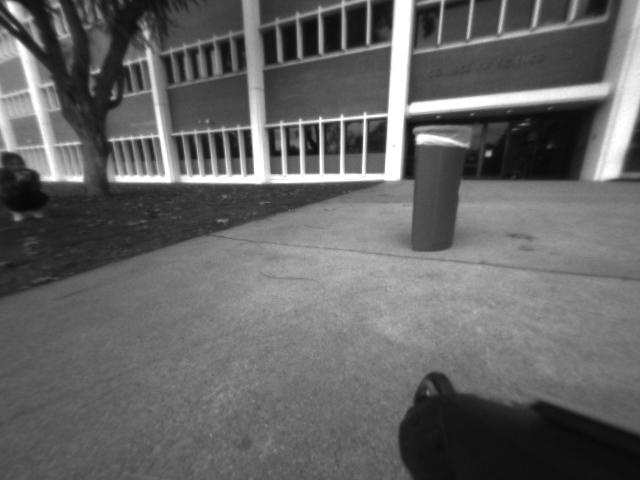trashcan_open: (404, 119, 474, 258)
